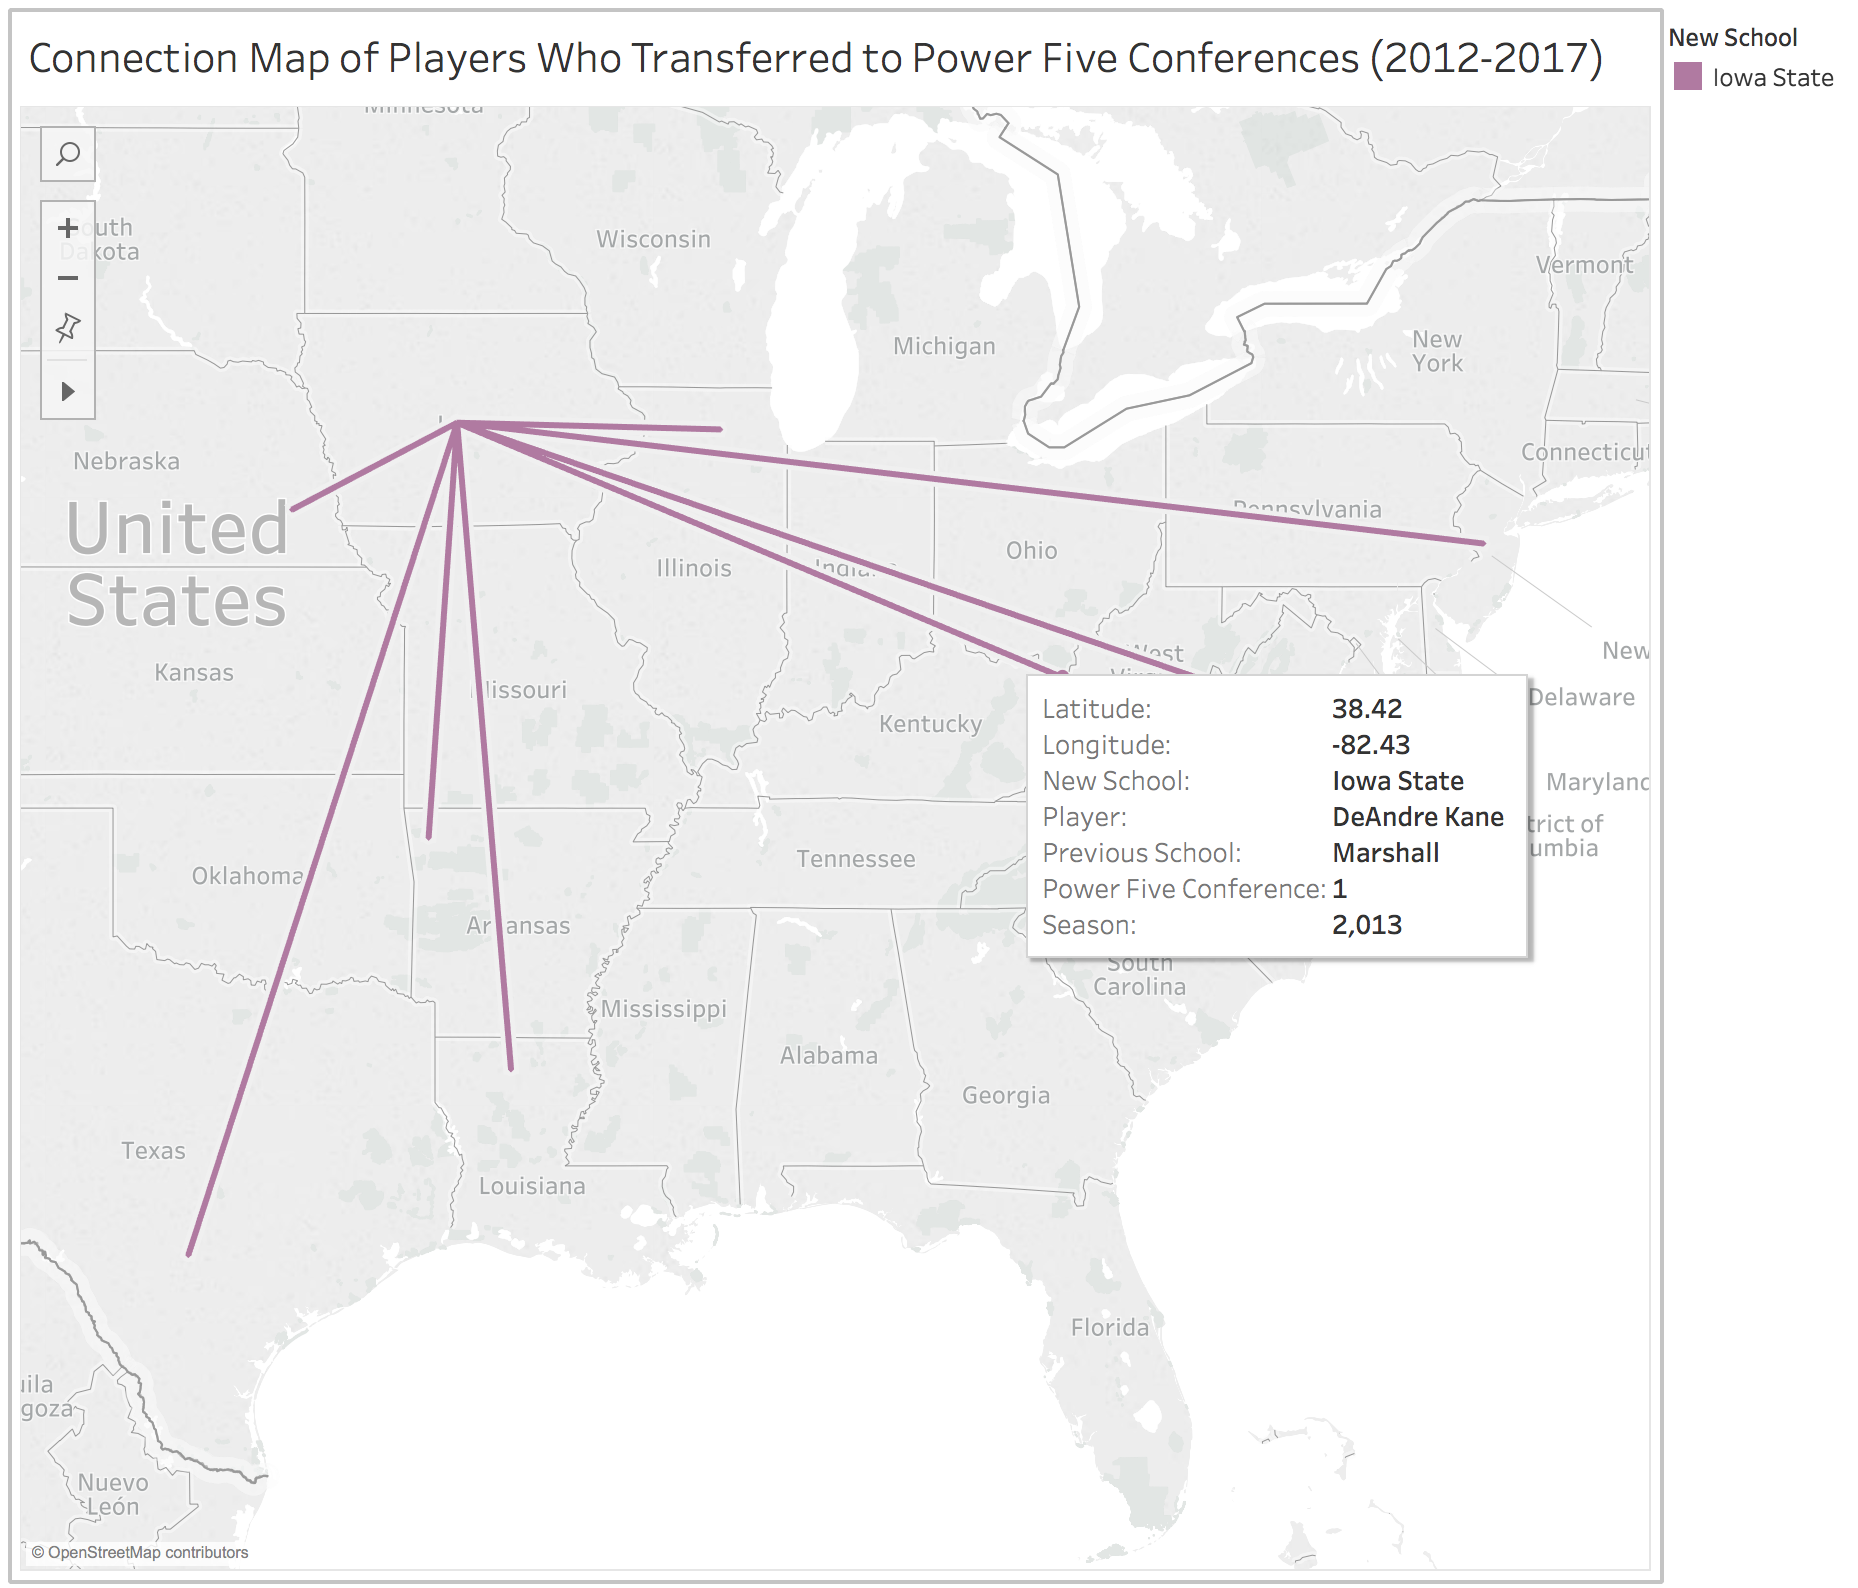

Layout of this report page (visuals, bound fields, positions):
{"tool":"tableau","page":{"name":"Connection Map Dashboard","canvas":[1000,800],"ordinal":0},"visuals":[{"type":"worksheet","title":"Connection Map Sheet","mark":"Line","rows":["lat"],"cols":["lon"],"box":[8,8,824,784]},{"type":"legend","title":"Connection Map Sheet","param":"[federated.1g6h3is166ho0m1c2b5q007evn91].[none:new_school:nk]","box":[832,8,160,784]}]}

Visuals, with their boxes on the page's 1000x800 design canvas (x1, y1, x2, y2). These are canvas units, not pixel positions in the 1858x1588 screenshot, which may show the page scaled, cropped or inside an application window:
"Connection Map Sheet" worksheet (Line marks): <bbox>8, 8, 832, 792</bbox>
"Connection Map Sheet" legend: <bbox>832, 8, 992, 792</bbox>
